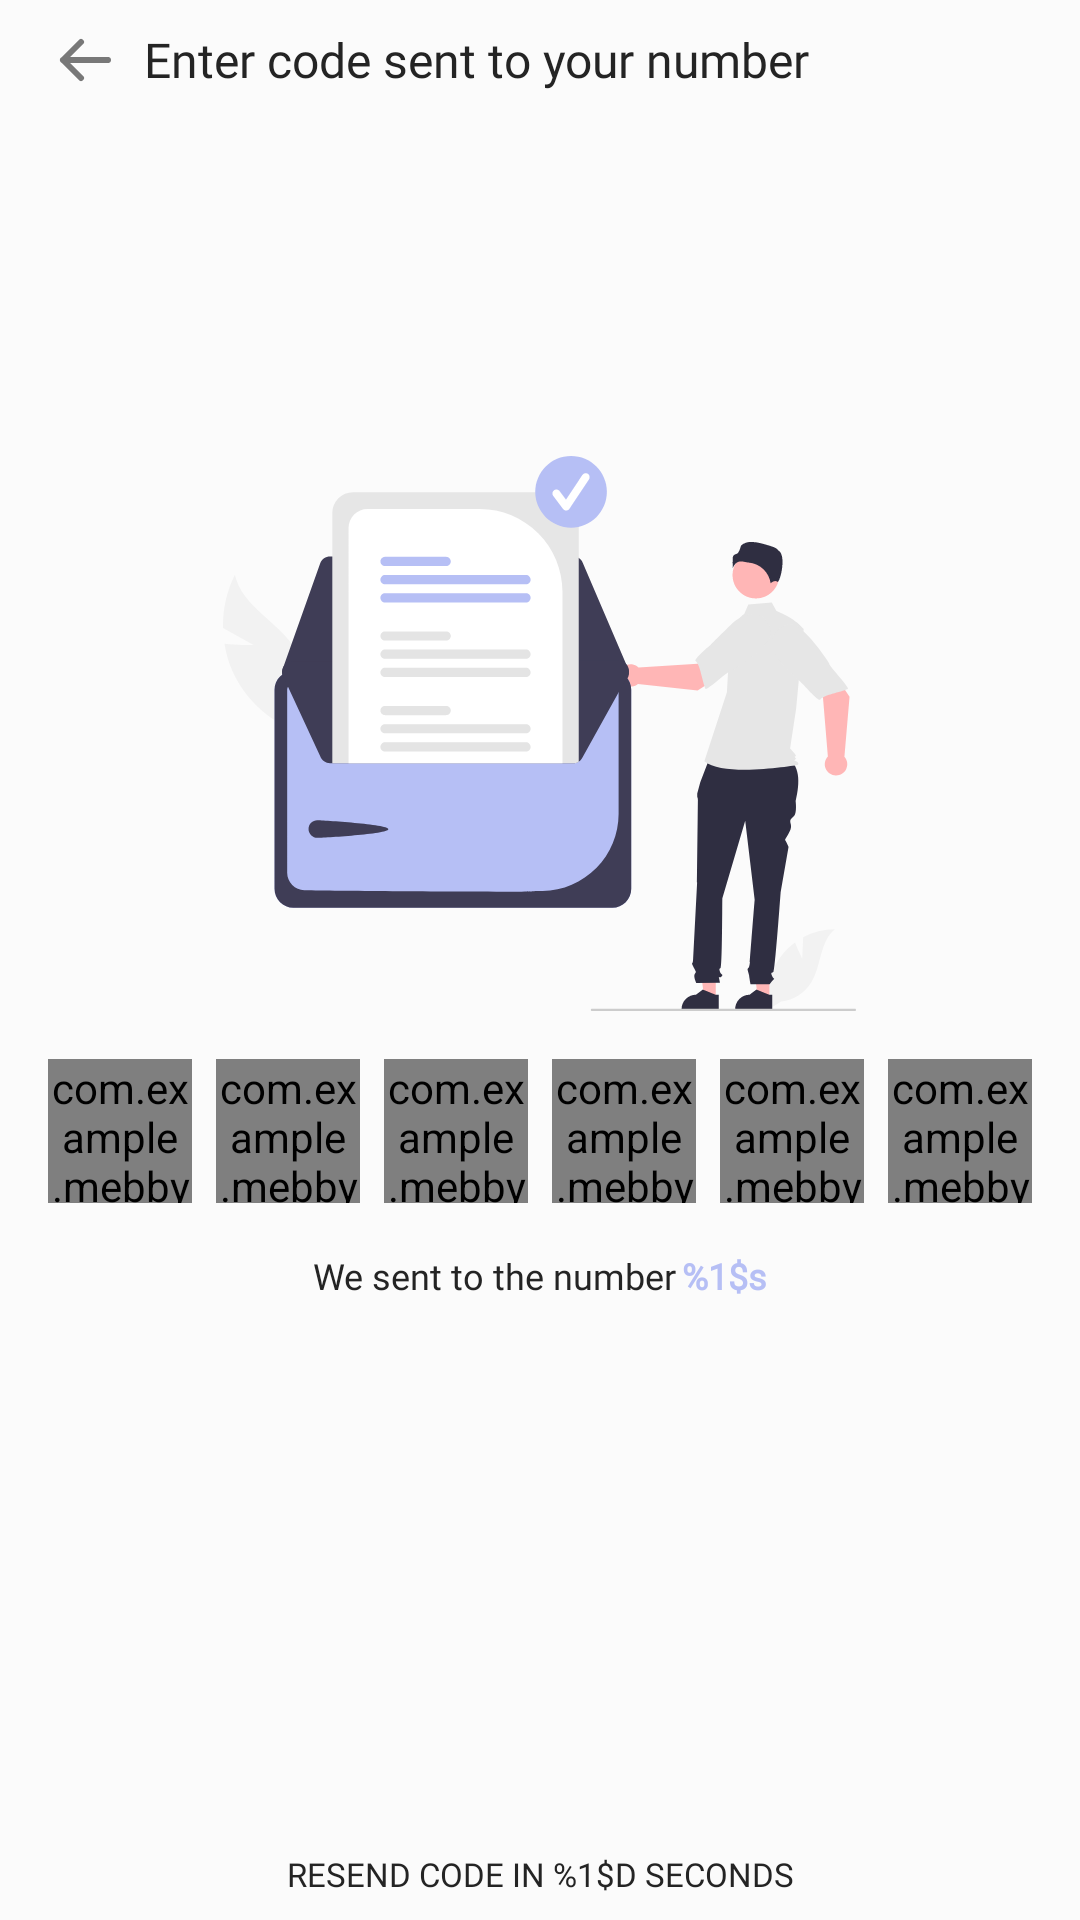

Icons on this 1080*1920 Android screen, each with the point to tap as [x,y]:
Back: [85,60]
